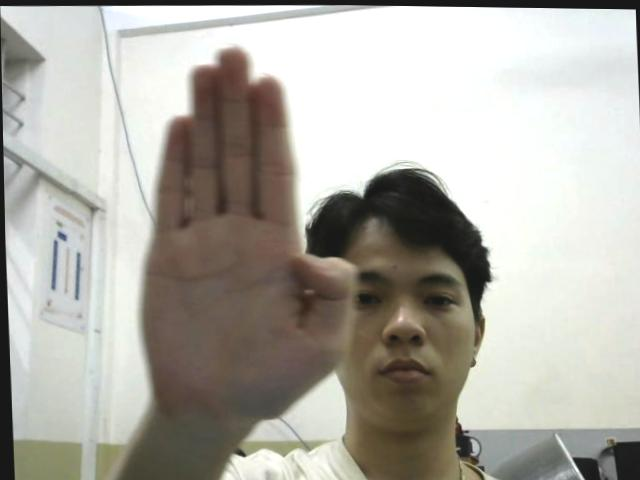B: (129, 40, 357, 420)
